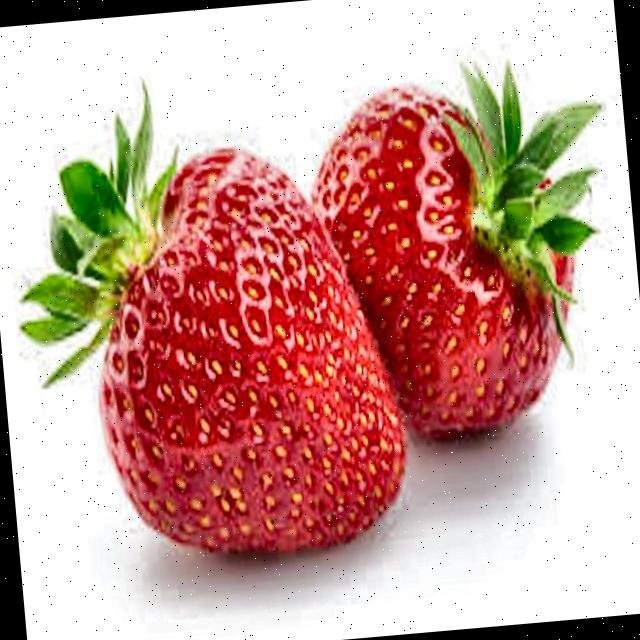strawberry: (22, 88, 405, 551), (313, 68, 599, 439)
